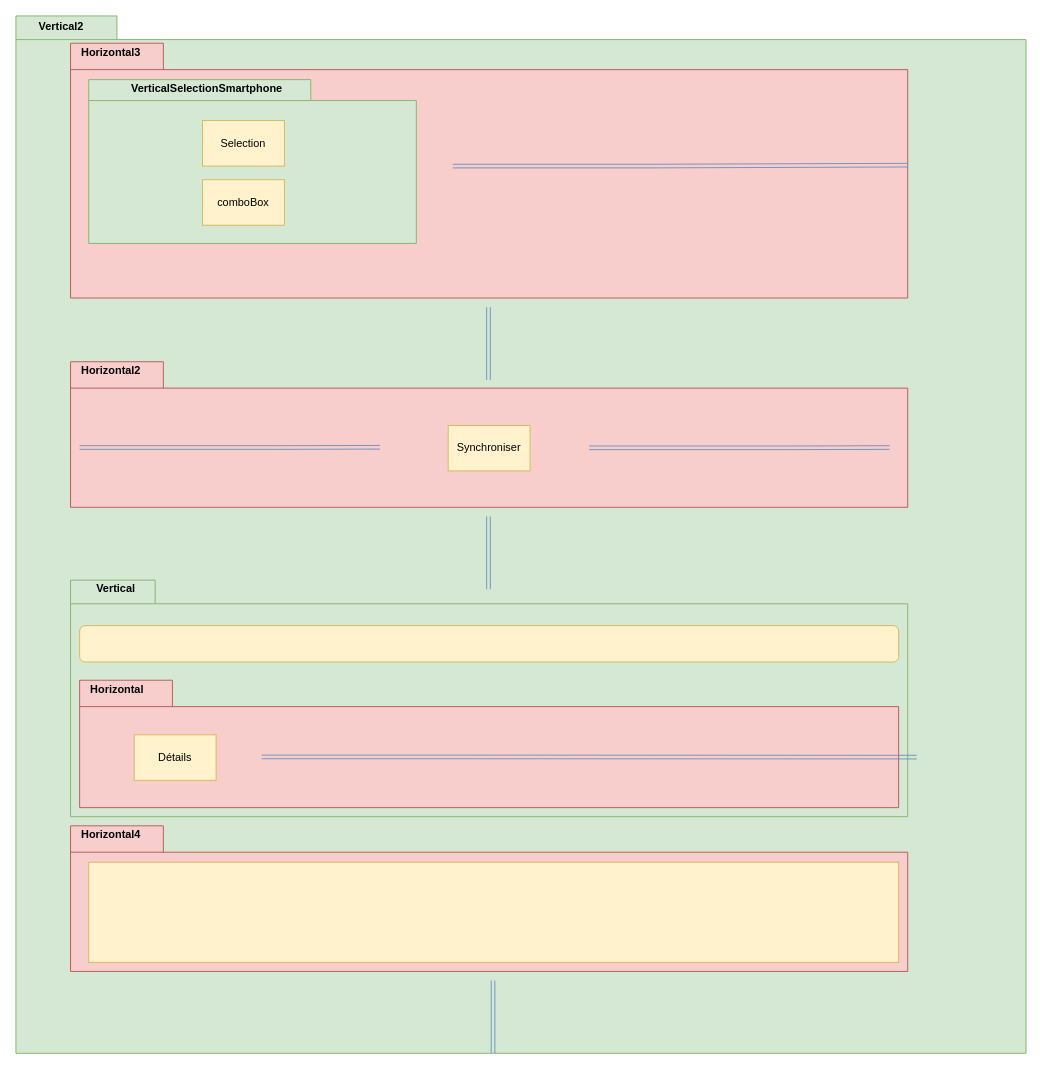
Some shapes in this 1042 by 1069 pixel diagram are drawn without their labels. The shapes that lost their labels are listed below. From the top down, each one's centre as x and y in pixels, then its label:
the point at 489,643: ProgressBar
the point at 493,911: ListWidgetLog
